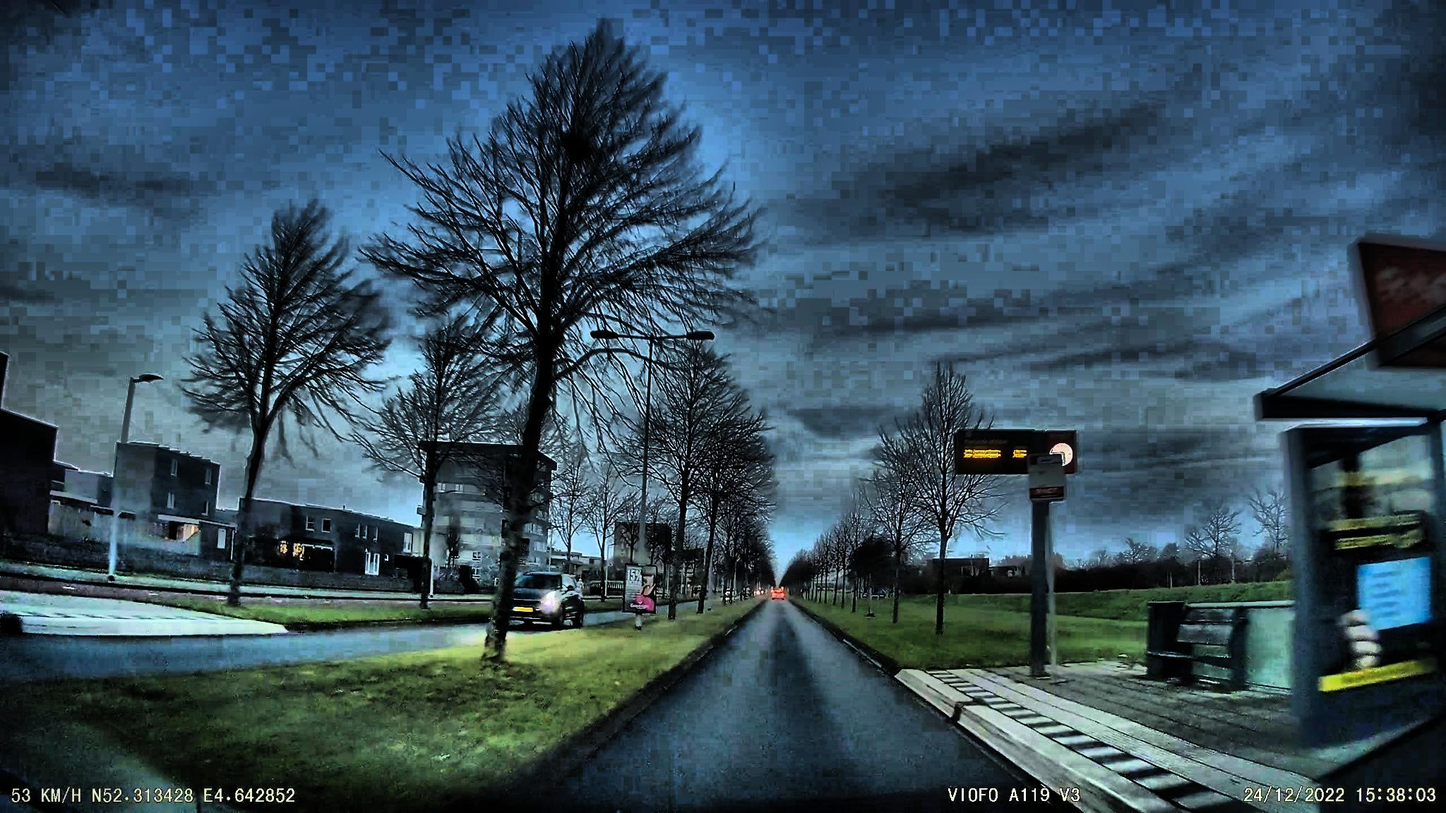Roads: (526, 601, 1077, 813)
